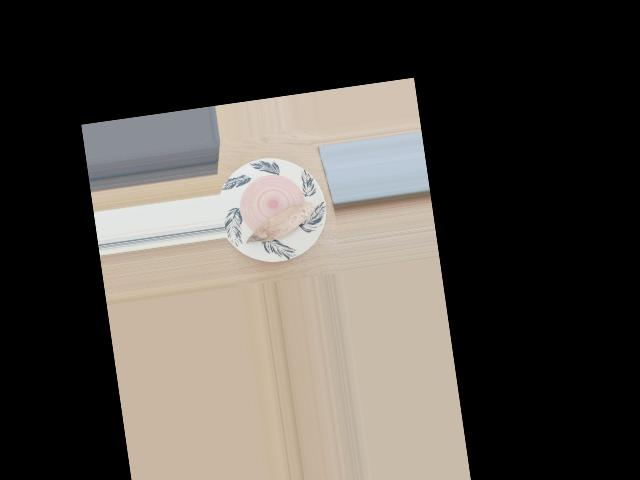sweet_potato: (249, 199, 313, 243)
